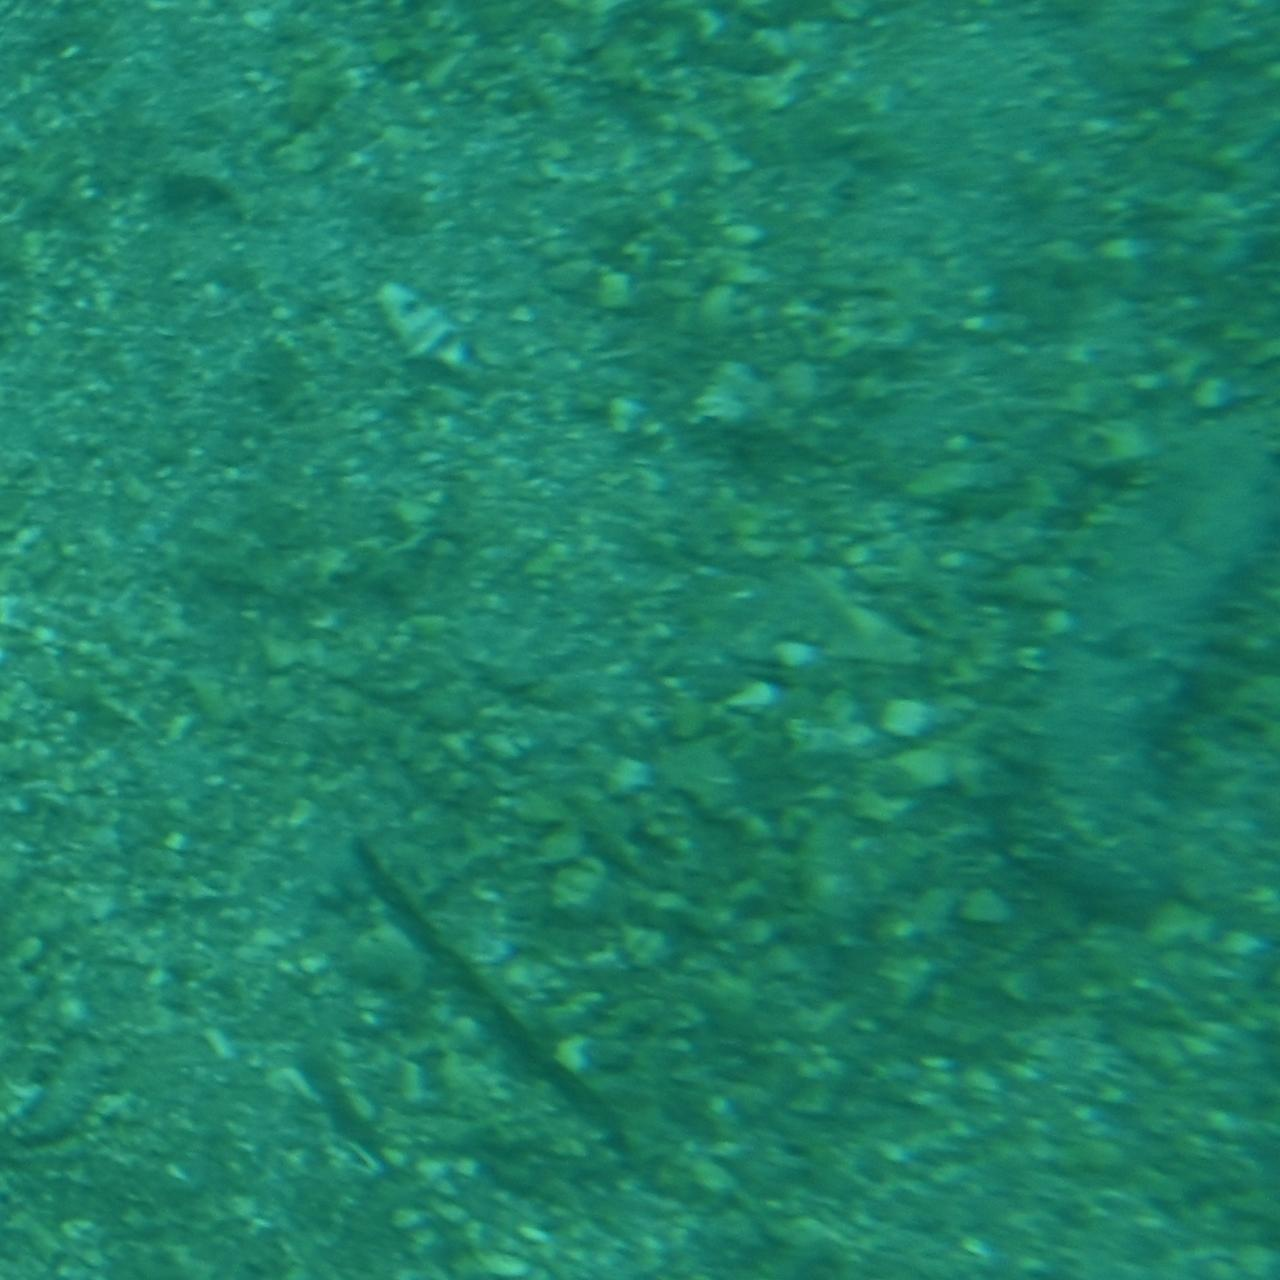Holothuria tubulosa: (1005, 332, 1279, 948)
